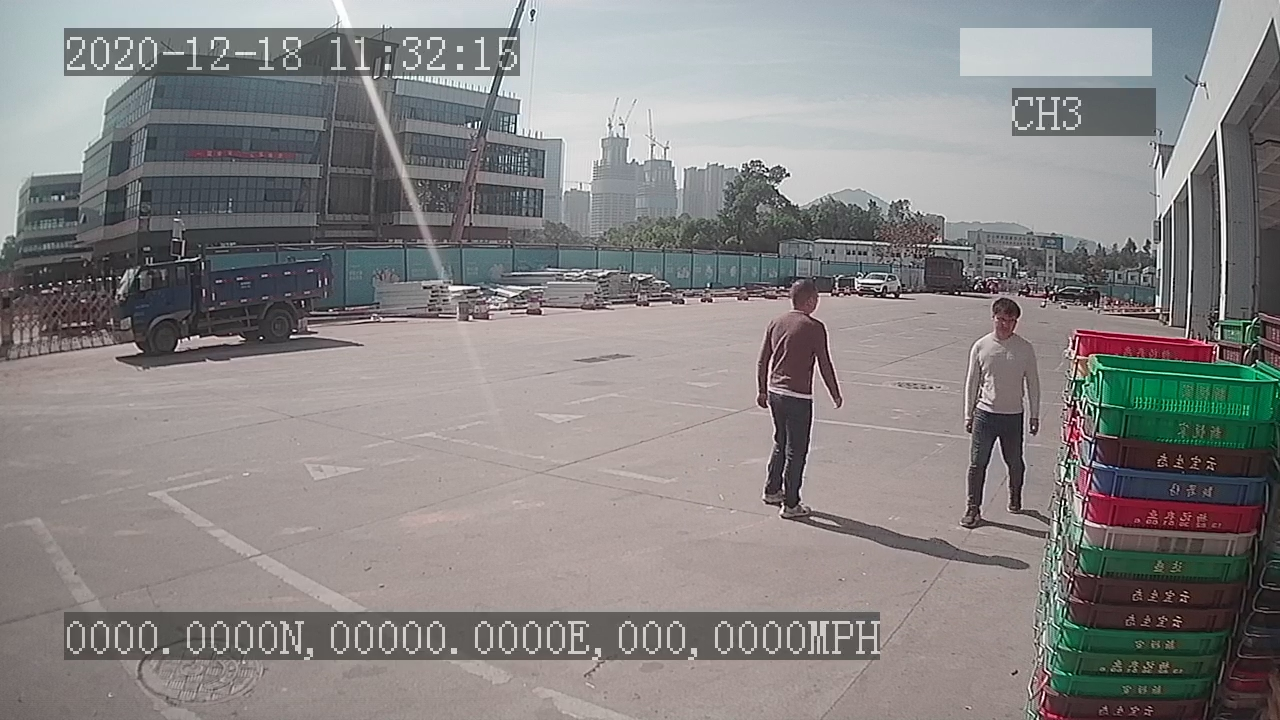person: (755, 276, 845, 521), (957, 295, 1040, 529)
